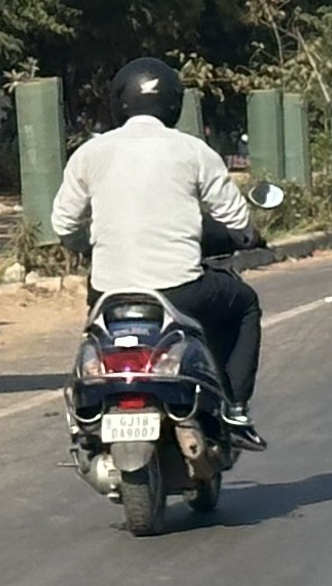BikeWithRider: (42, 50, 291, 542)
Helmet: (100, 51, 192, 135)
